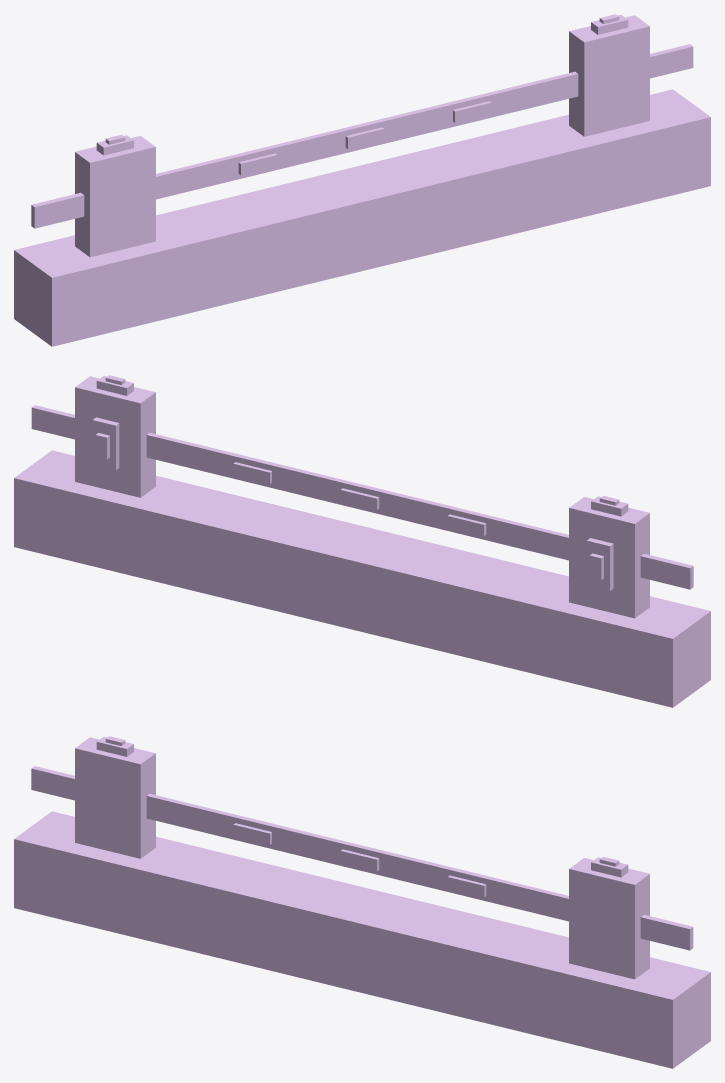
File: Railing 1.fbx
3 renders of one model, top to bottom at view 1: azimuth 30°, elevation 25°; view 2: azimuth 150°, elevation 25°; view 3: azimuth 330°, elevation 25°, orthographic.
Visible parts, largest first — view 1: Railing 1; view 2: Railing 1; view 3: Railing 1.
Boxes of the visible parts, <box> form: Railing 1: <box>14,14,710,346</box>; Railing 1: <box>14,375,710,707</box>; Railing 1: <box>14,736,710,1068</box>.
Size of the model in its own units: 500 by 127 by 50.
